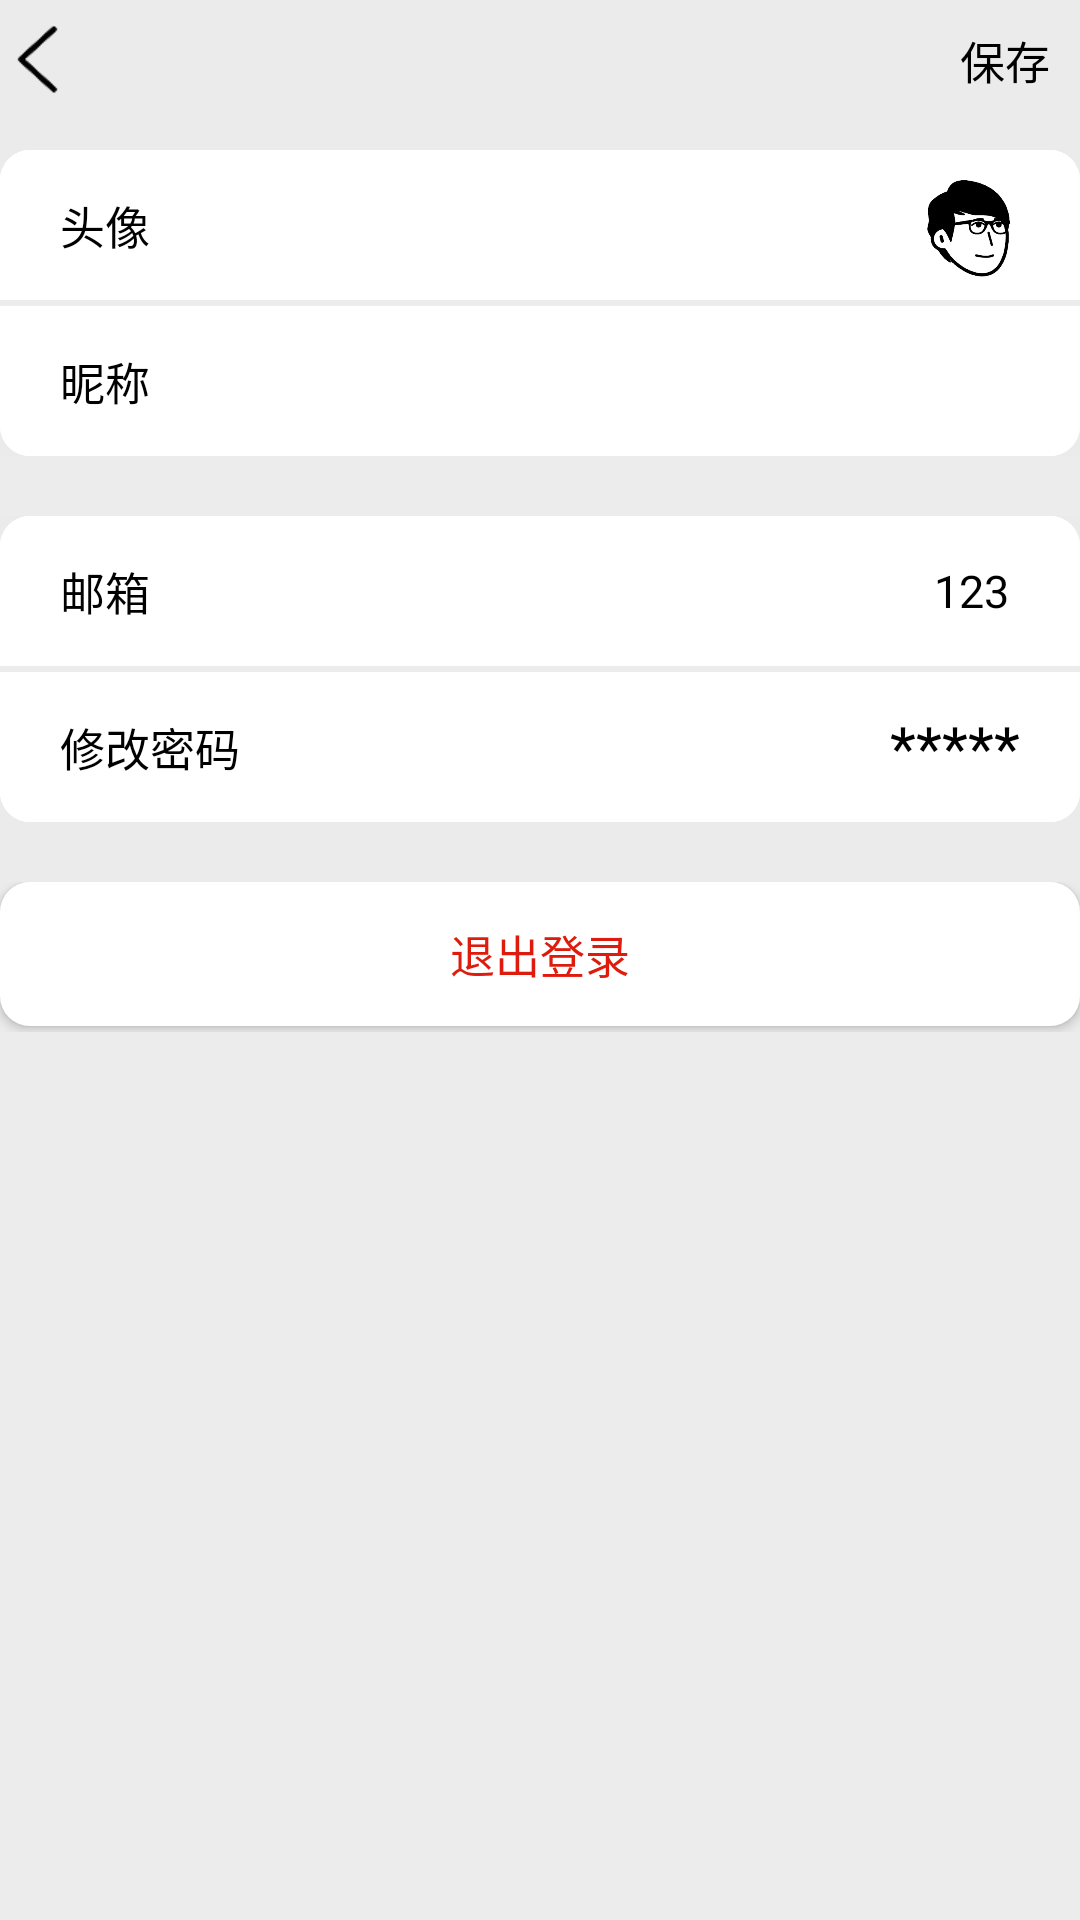

Named icons in this screenshot (1080px x 1920px) and their centers, [x,y]:
back: [37,59]
